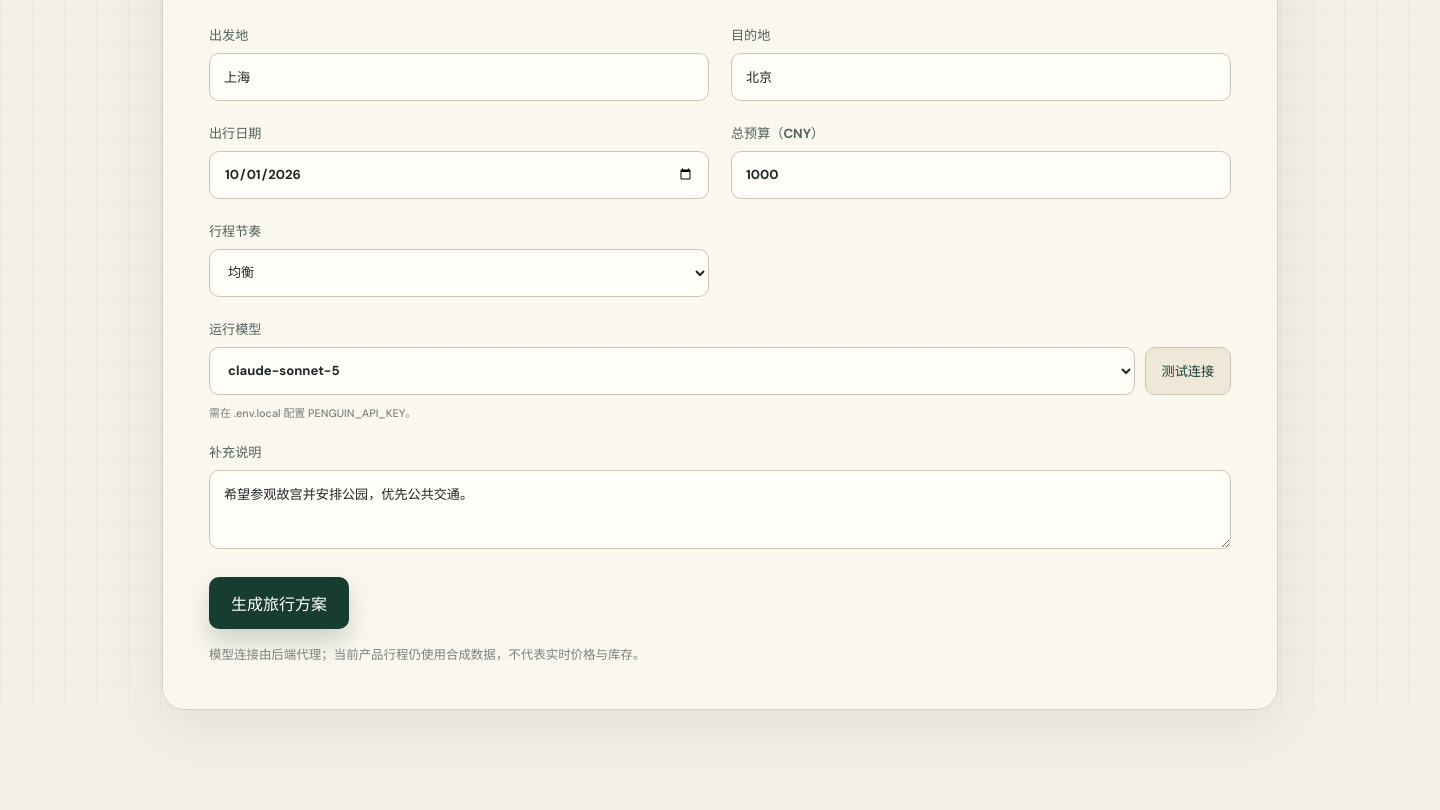
Test: App › submits a fixture request and renders run status
(page scrolled)
Click the button "生成旅行方案".
click(279, 603)  # box top-left (209, 577), bottom-right (349, 629)
(page scrolled)
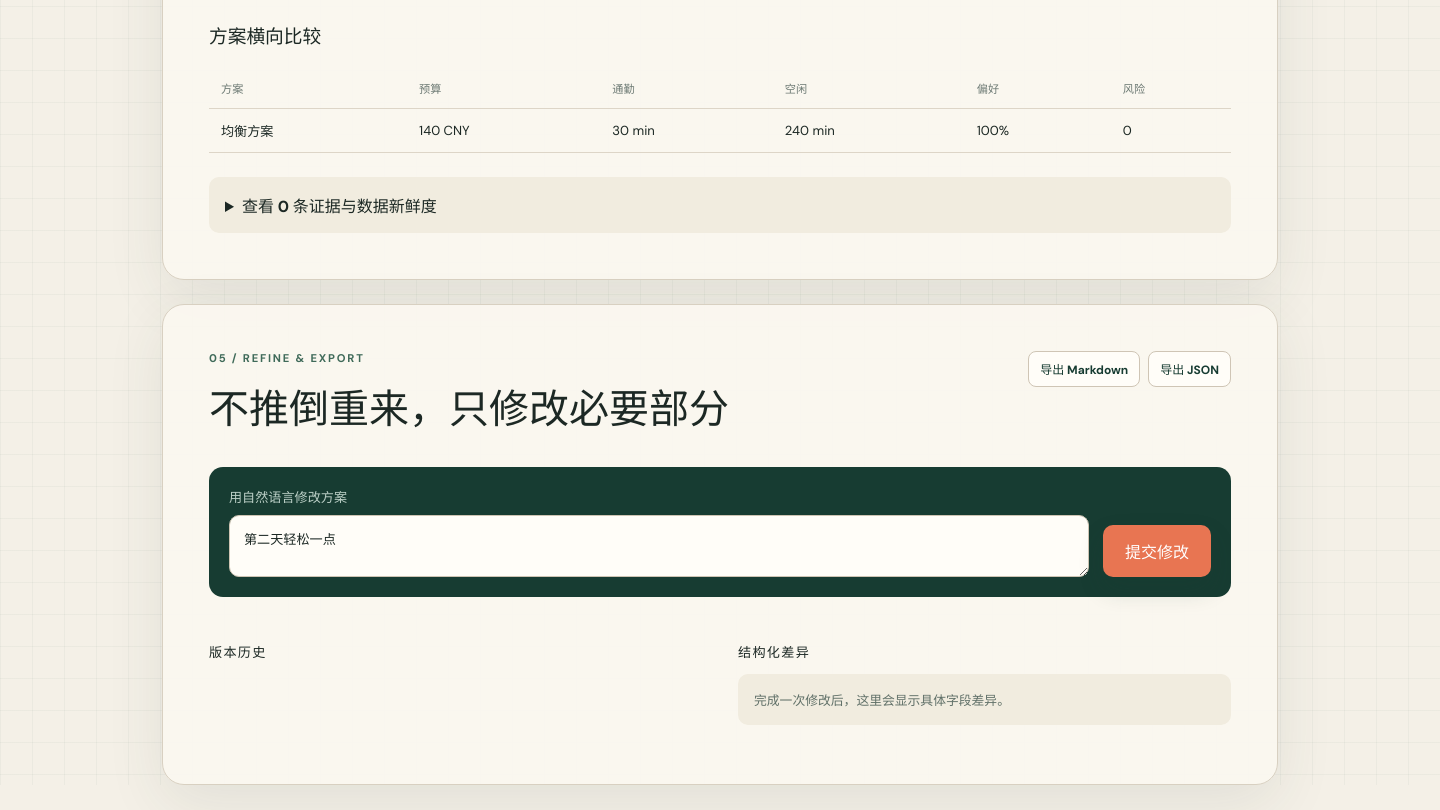
Check: the heading "不推倒重来，只修改必要部分" is shown, box top-left (209, 377), bottom-right (729, 435)
